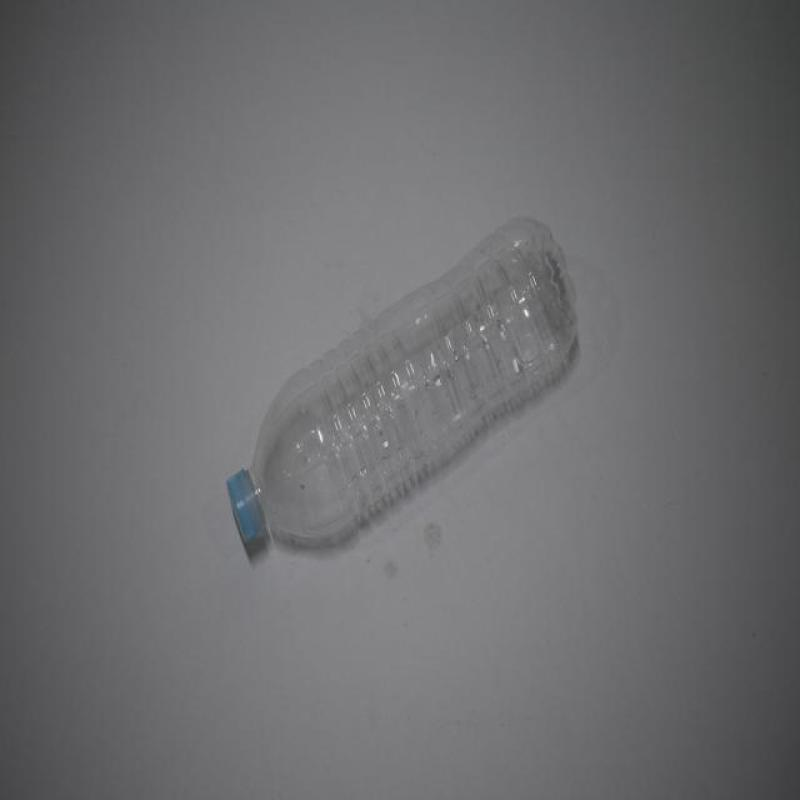botella: (226, 214, 576, 541)
